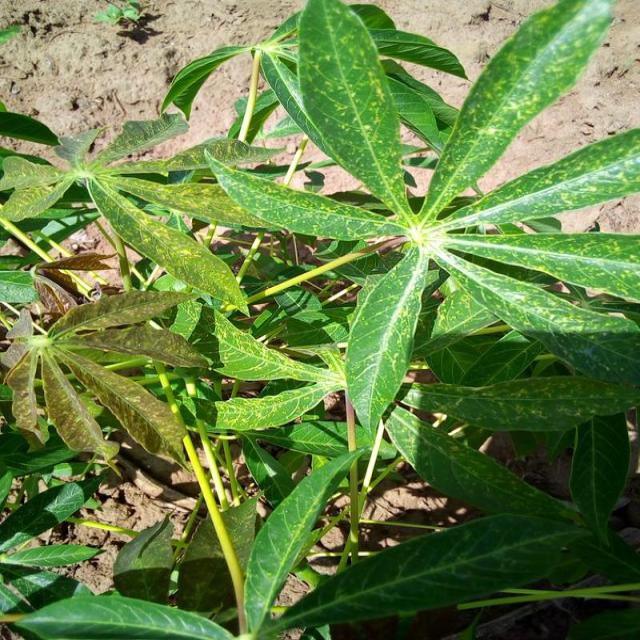cassava leaf: (0, 0, 638, 638), (416, 0, 614, 224), (294, 0, 410, 219)
